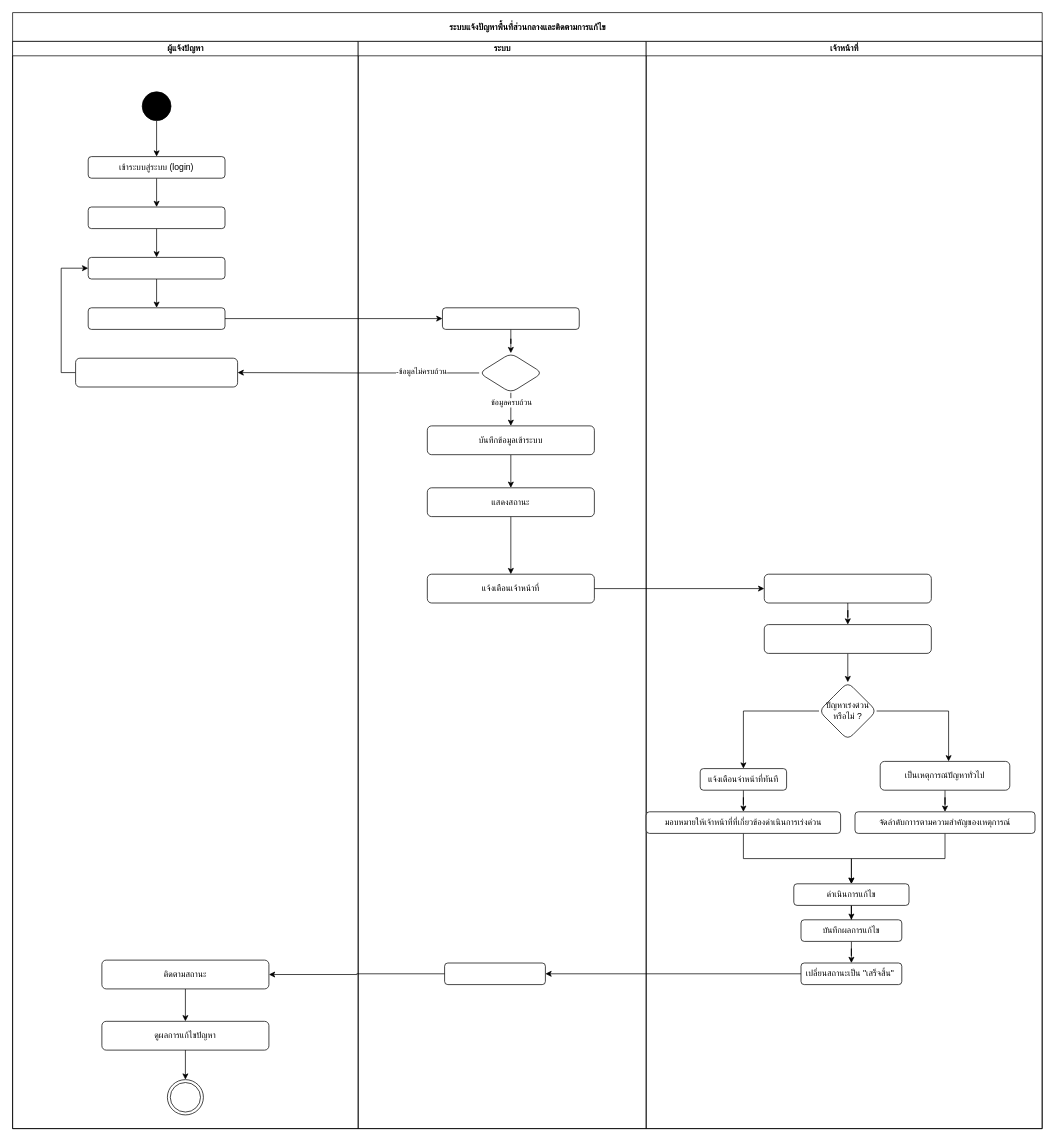
This 1055x1141 diagram has some shape labels left out. The shapes that lost their labels are listed below. From the top down, each one's centre as x and y in pixels, then its label:
point (156, 217): เลือก หัวข้อ "แจ้งปัญหา"
point (156, 268): กรอกรายละเอียด ของปัญหา
point (156, 318): ส่งการแจ้งปัญหา
point (510, 318): ตรวจสอบความถูกต้องของข้อมูล
point (156, 372): แสดงข้อความกรอกข้อมูลไม่ถูกต้อง
point (510, 372): ข้อมูลครบถ้วน ?
point (847, 588): เจ้าหน้าที่ตรวจสอบข้อมูลปัญหา
point (847, 638): ประเมินข้อมูลของปัญหา
point (494, 973): แจ้ง ผู้แจ้งปัญหา
